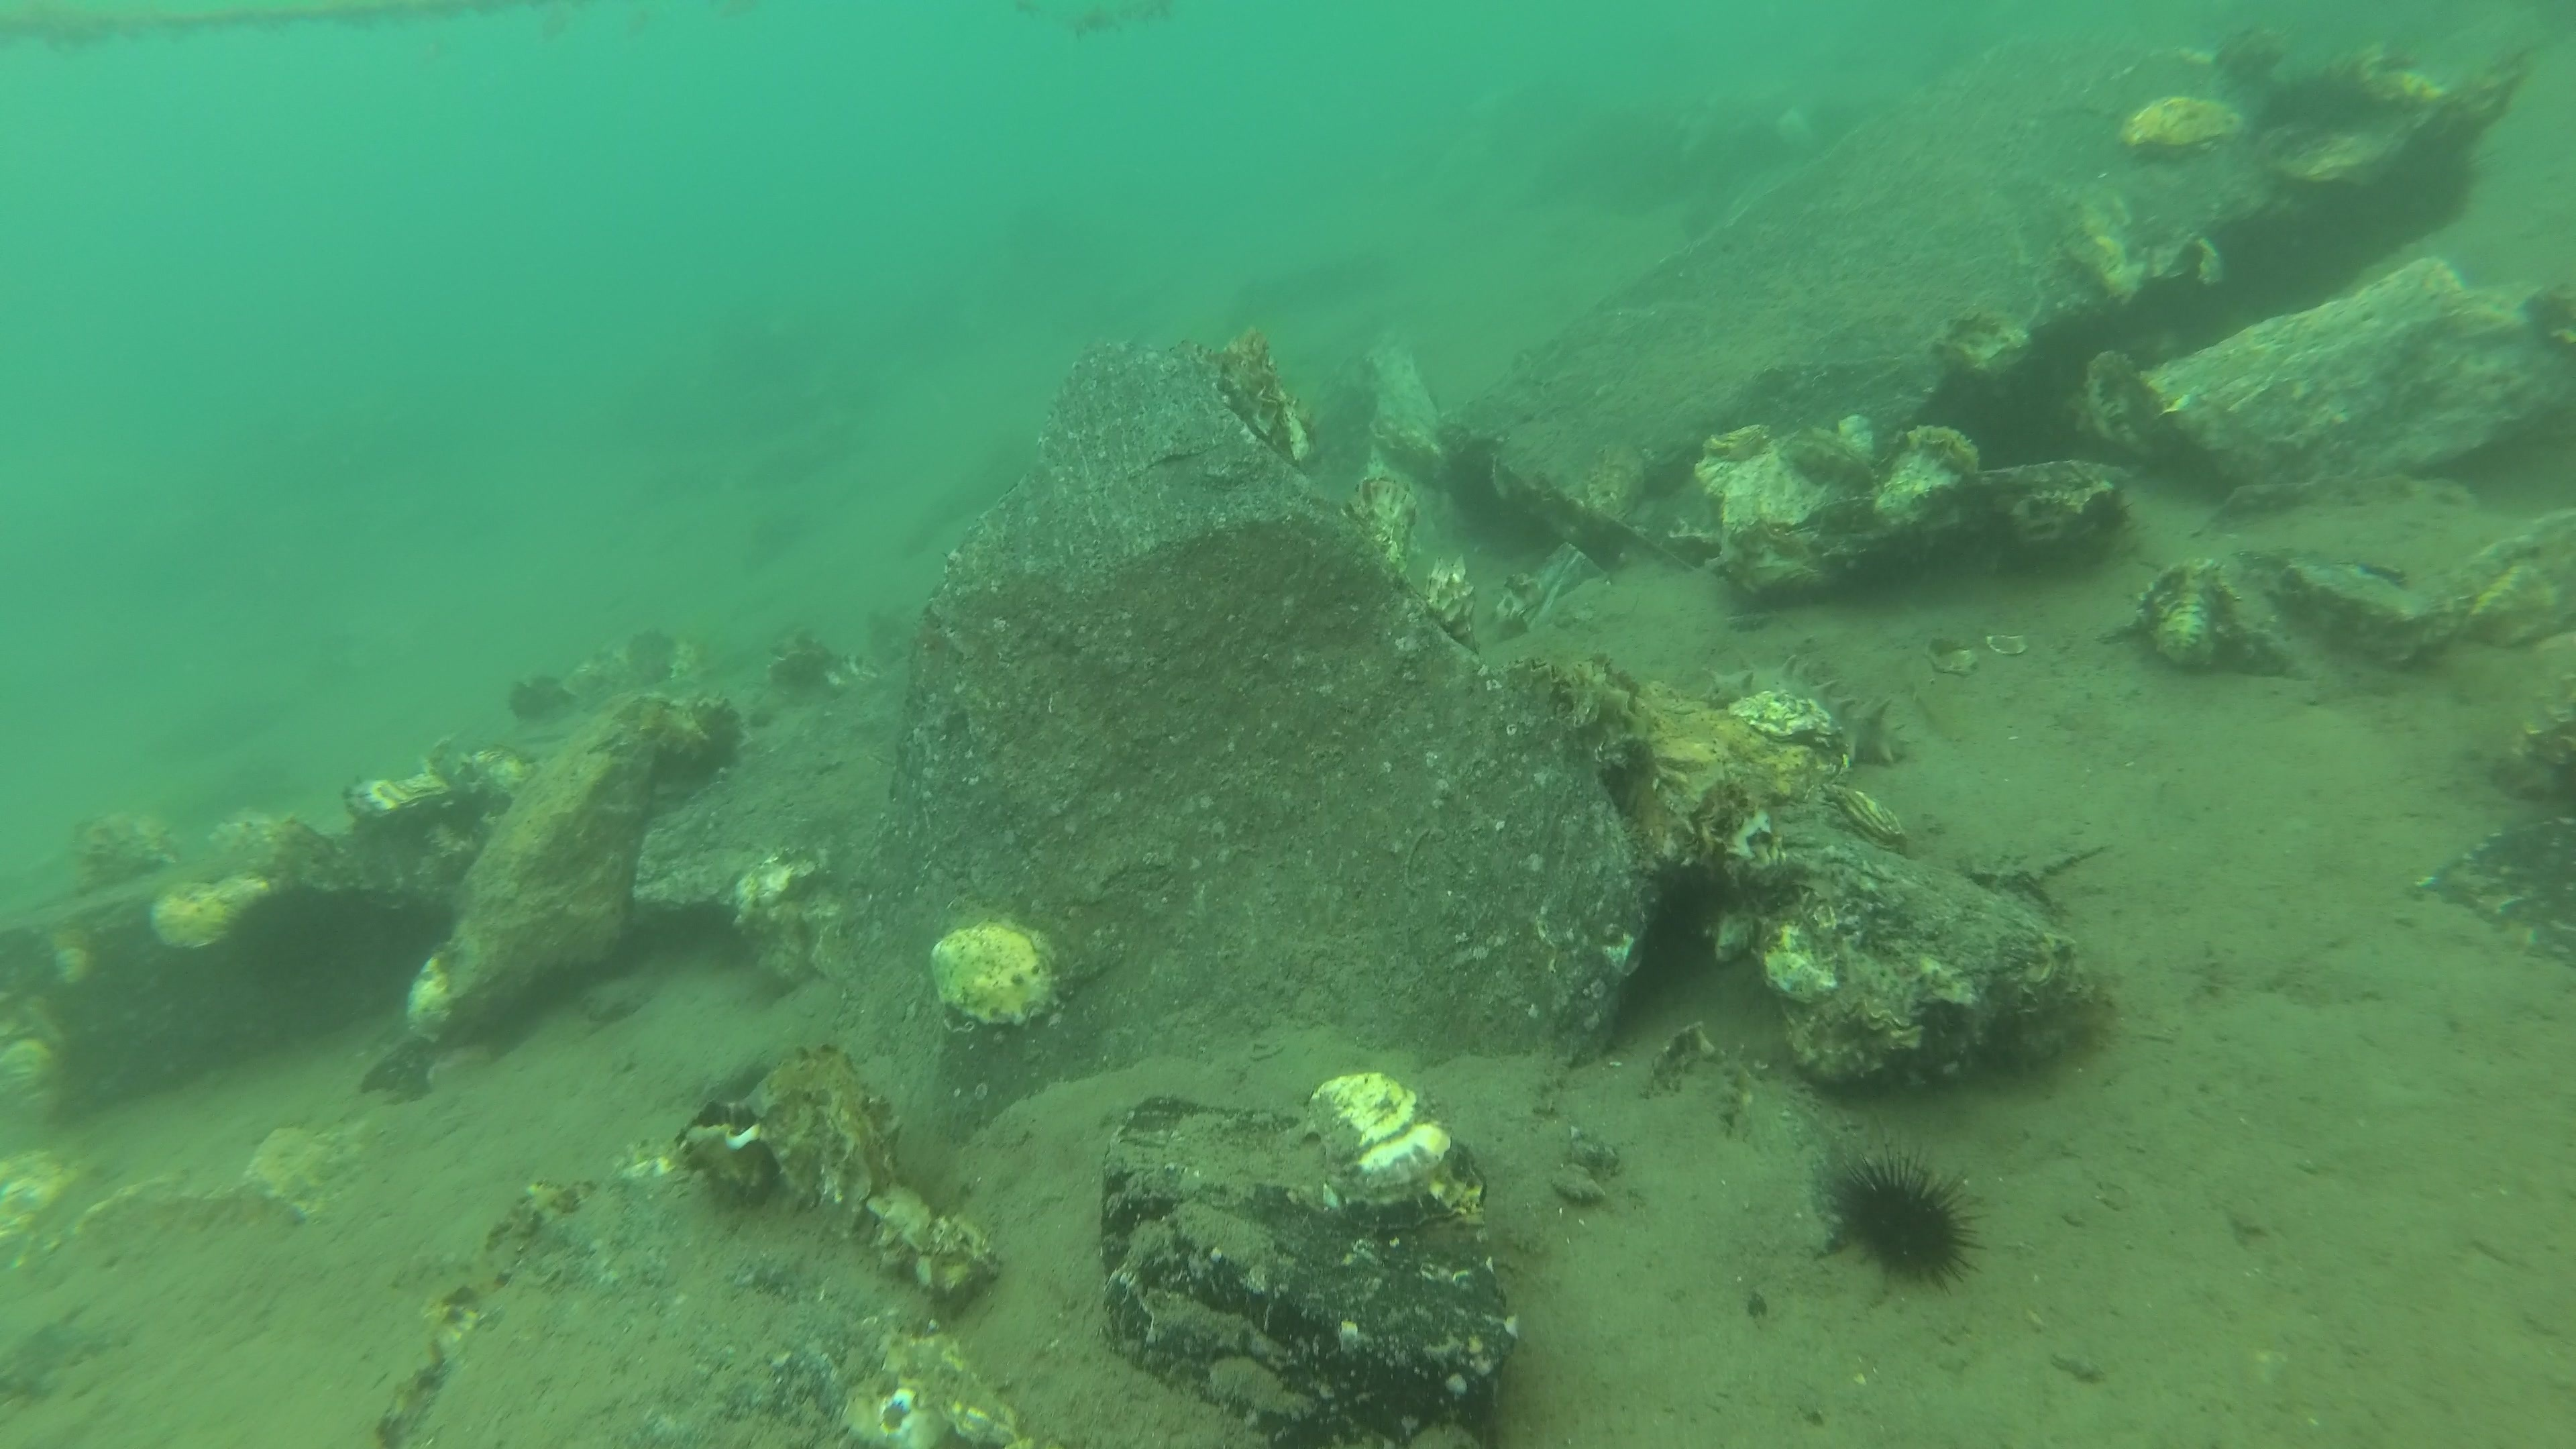echinus: (1819, 1139, 1996, 1299), (198, 874, 370, 984), (2259, 58, 2383, 131)
holothurian: (1702, 649, 1918, 771)
